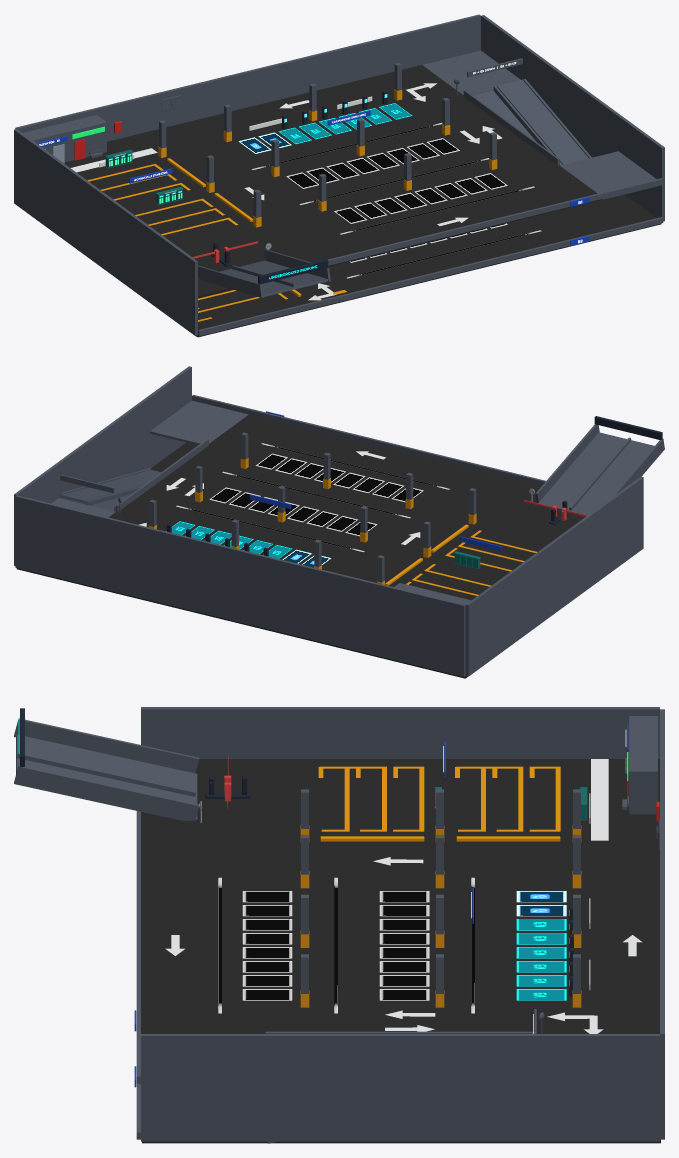
File: underground_parking_lot_blender.glb
The picture shows the model from 3 angles, top to bottom: view 1: azimuth 30°, elevation 25°; view 2: azimuth 150°, elevation 25°; view 3: azimuth 270°, elevation 25°; orthographic projection. The views are drawn at different scales.
Parts seen in each view (by area): view 1: B1_Main_Floor_Slab, B1_Wall_North, B2_Main_Floor_Slab, B2_Wall_West, B1_Wall_West, B1_Wall_East, B2_Wall_South_Cutaway, Ramp_B2_To_B1_Up, B1_RampLanding_South_Slab, B1_Wall_South_Cutaway, B1_RampLanding_North_Slab, B2_Wall_East (+8 smaller); view 2: B1_Main_Floor_Slab, B2_Wall_North, B1_Wall_North, B2_Wall_West, B1_Wall_West, B1_Wall_East, B1_Entrance_Exit_Ramp_Slab, B1_RampLanding_South_Slab, B1_Wall_South_Cutaway, B2_Wall_East, B2_Main_Floor_Slab, Ramp_B2_To_B1_Up (+5 smaller); view 3: B1_Main_Floor_Slab, B2_Wall_East, B1_Wall_East, B1_Wall_West, B1_Entrance_Exit_Ramp_Slab, B1_Entrance_Ramp_Wall_2, B1_Entrance_Ramp_Wall_1, B1_Staircase_Core_Wall, B1_Wall_North, B2_Main_Floor_Slab, B1_PedestrianPath_North, B1_Wall_South_Cutaway (+3 smaller).
Part boxes in pixels (x1,y1,x2,y2): B1_Main_Floor_Slab: (64,65,602,298); B1_Wall_North: (15,14,480,141); B2_Main_Floor_Slab: (195,112,661,337); B2_Wall_West: (14,164,197,335); B1_Wall_West: (14,129,197,296); B1_Wall_East: (481,15,664,182); B2_Wall_South_Cutaway: (198,217,663,335); Ramp_B2_To_B1_Up: (497,79,588,164); B1_RampLanding_South_Slab: (560,151,661,199); B1_Wall_South_Cutaway: (327,178,663,265); B1_RampLanding_North_Slab: (422,50,520,94); B2_Wall_East: (481,50,664,221); B1_Main_Floor_Slab: (108,414,584,600); B2_Wall_North: (15,529,465,676); B1_Wall_North: (15,495,465,639); B2_Wall_West: (465,511,643,676); B1_Wall_West: (465,476,643,638); B1_Wall_East: (14,366,191,527); B1_Entrance_Exit_Ramp_Slab: (538,432,654,515); B1_RampLanding_South_Slab: (150,400,248,445); B1_Wall_South_Cutaway: (192,395,545,485); B2_Wall_East: (14,431,185,565); B2_Main_Floor_Slab: (16,442,467,678); Ramp_B2_To_B1_Up: (60,470,160,503); B1_Main_Floor_Slab: (141,759,659,1033); B2_Wall_East: (141,1085,659,1141); B1_Wall_East: (141,1034,659,1085); B1_Wall_West: (141,707,659,758); B1_Entrance_Exit_Ramp_Slab: (16,734,197,819); B1_Entrance_Ramp_Wall_2: (14,765,199,820); B1_Entrance_Ramp_Wall_1: (14,718,199,773); B1_Staircase_Core_Wall: (629,745,657,814); B1_Wall_North: (660,709,664,1083); B2_Main_Floor_Slab: (142,1139,660,1143); B1_PedestrianPath_North: (591,759,608,840); B1_Wall_South_Cutaway: (136,818,140,1083).
Size of the model in its own units: 37.48 by 6.79 by 31.35.
28 materials, 3 textured.
